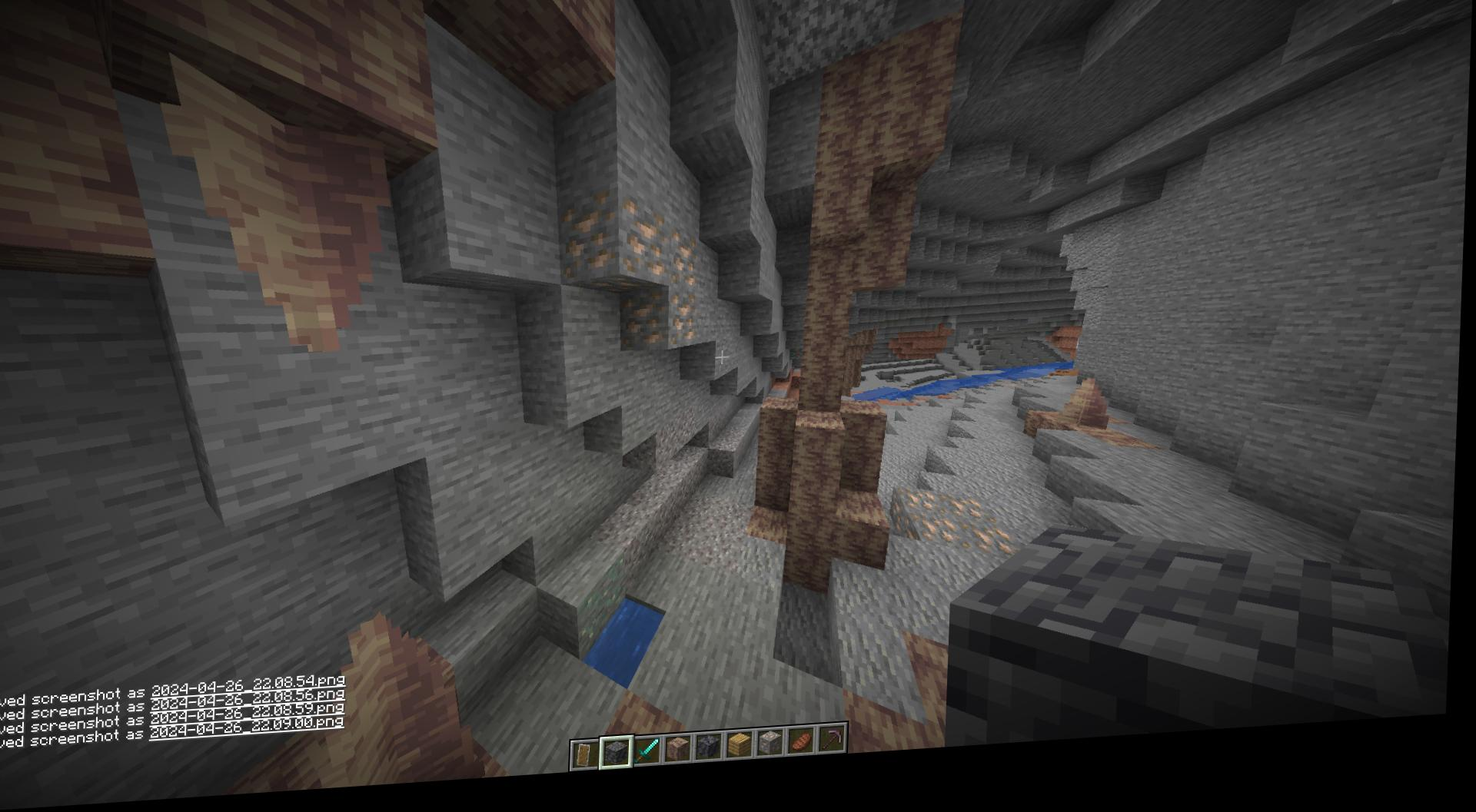iron ore: (899, 494, 1020, 574), (559, 201, 621, 285), (620, 206, 676, 287), (624, 301, 672, 358), (672, 245, 707, 300), (674, 303, 701, 353)
